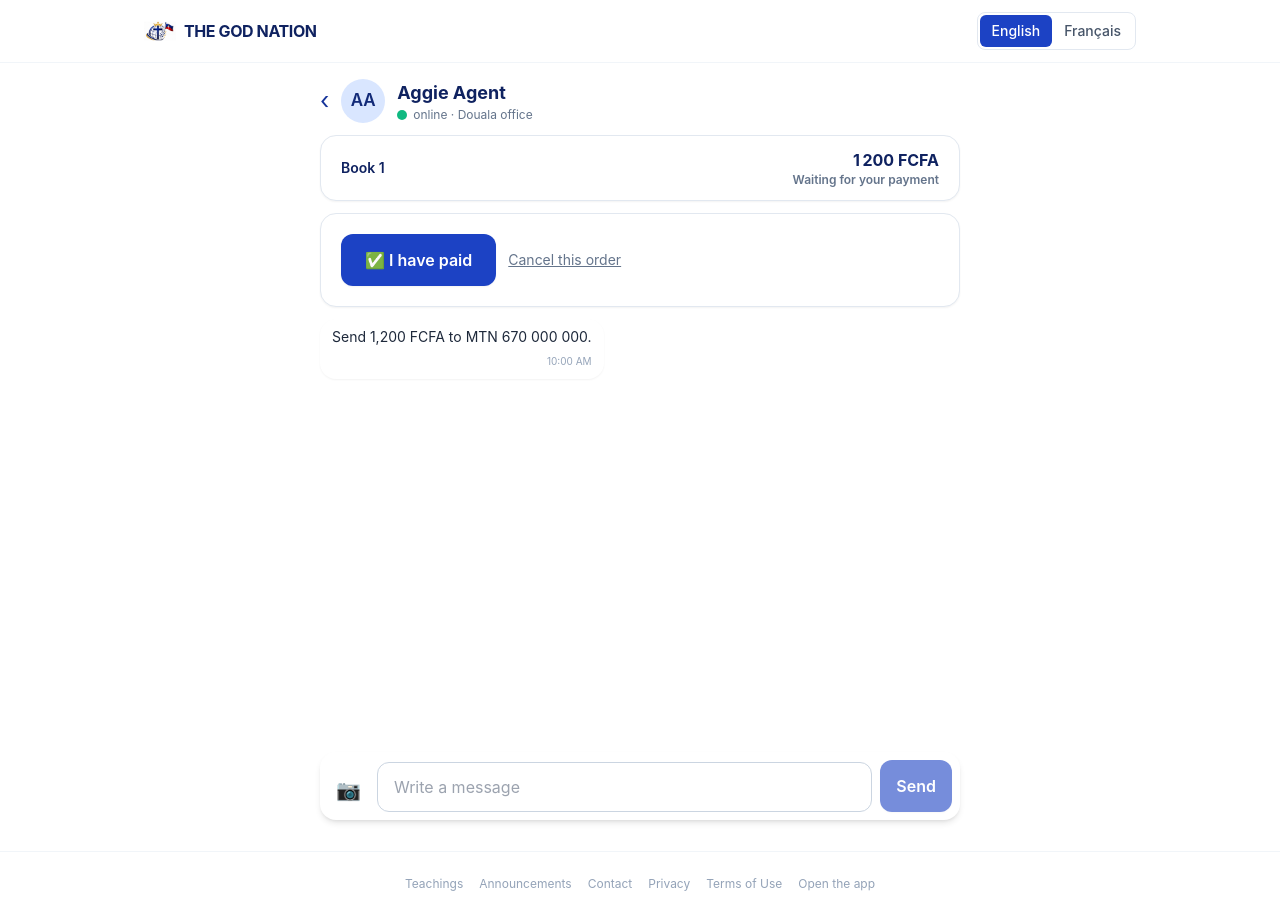
Test: The payment order chat › shows the agent's instructions, lets the member write, and sends "I have paid" with the transaction ID
This screenshot has width=1280, height=900.
Check: the text "Send 1,200 FCFA to MTN 670 000 000." is shown, box top-left (332, 327), bottom-right (592, 347)
Check: the heading "Aggie Agent" is shown, box top-left (397, 82), bottom-right (506, 103)
Type "I am sending it now" into the text box labelled "Write a message" at (625, 787), box top-left (377, 762), bottom-right (872, 812)
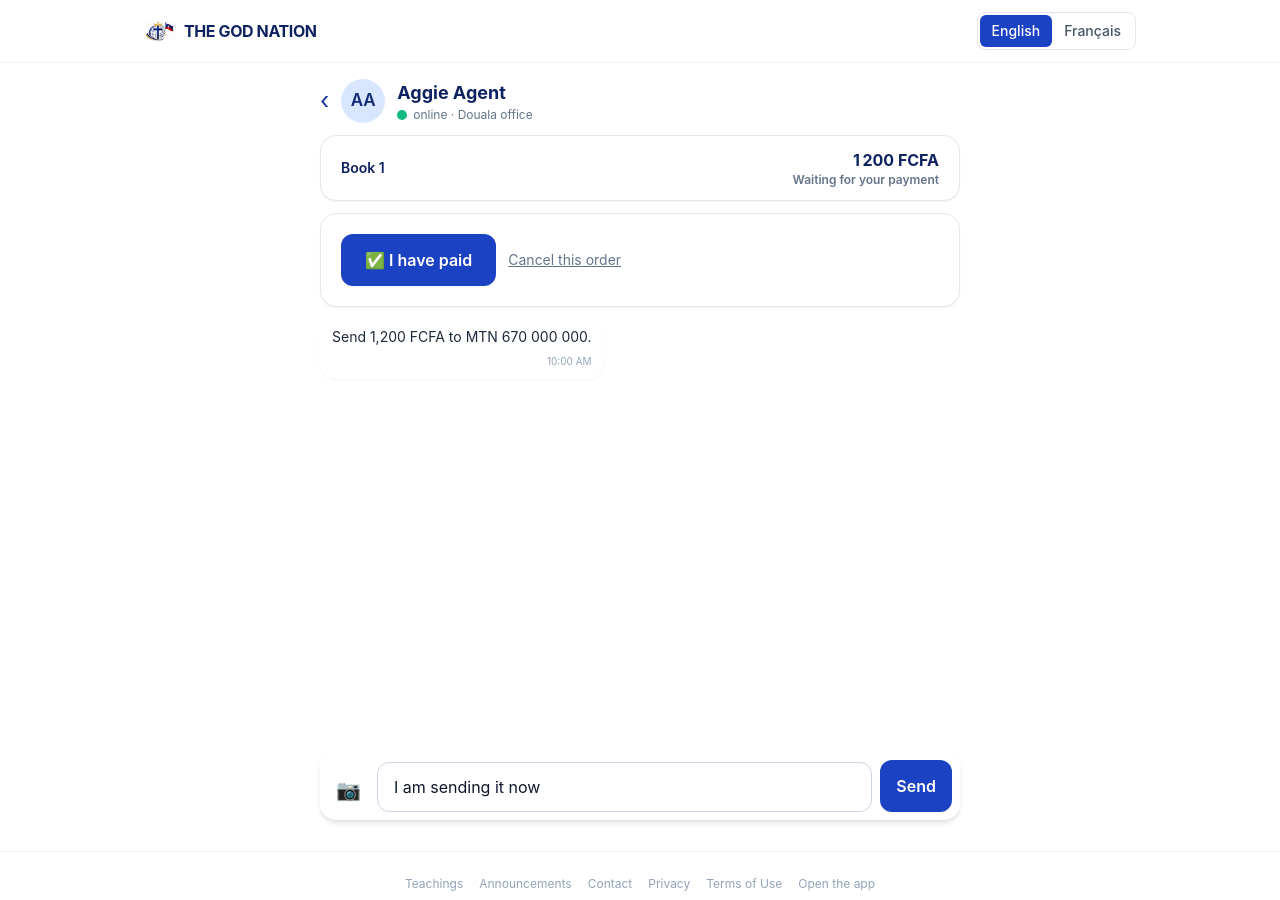
Click the button "Send" at (916, 786), box top-left (880, 760), bottom-right (952, 812)
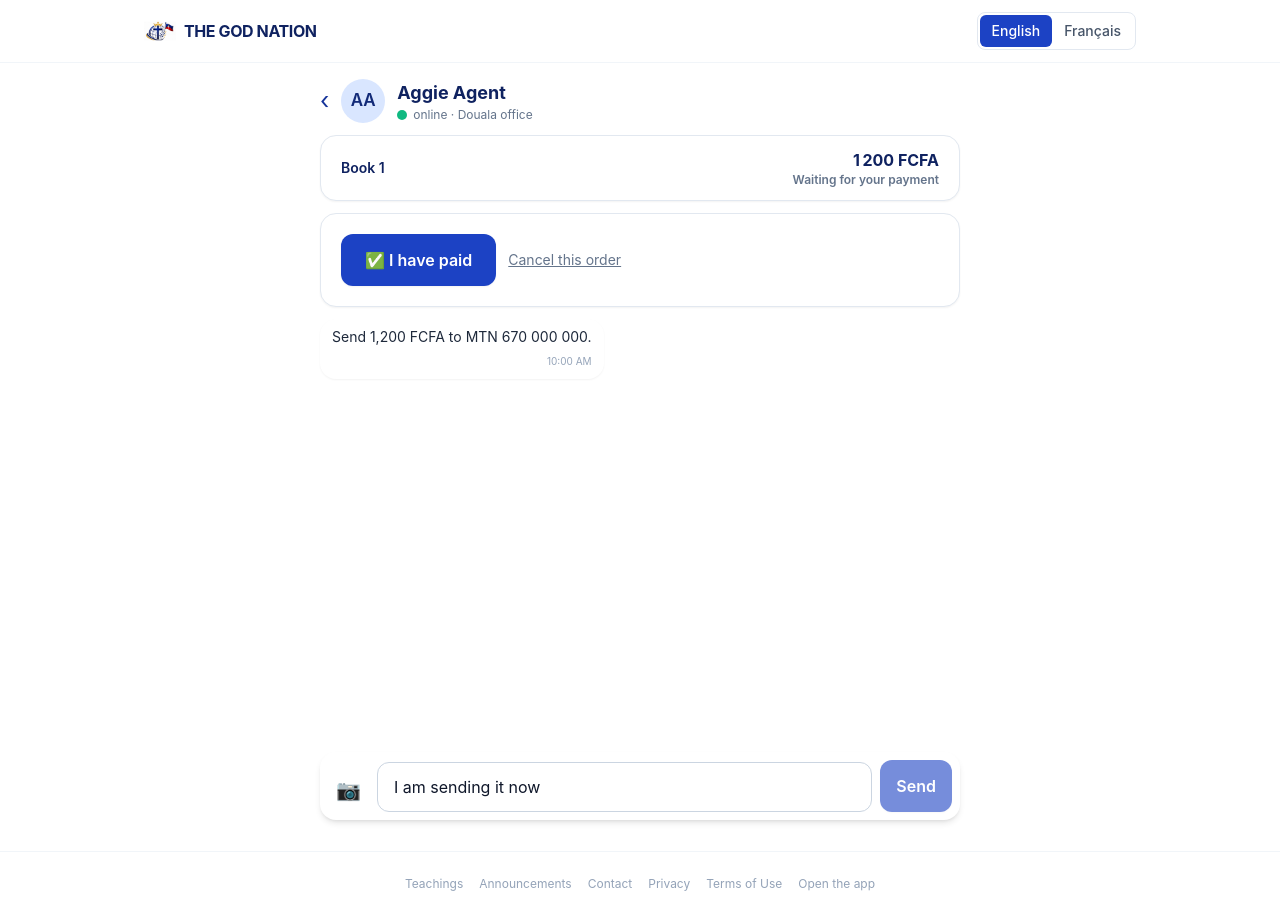
Click the button "✅ I have paid" at (419, 260), box top-left (341, 234), bottom-right (496, 286)
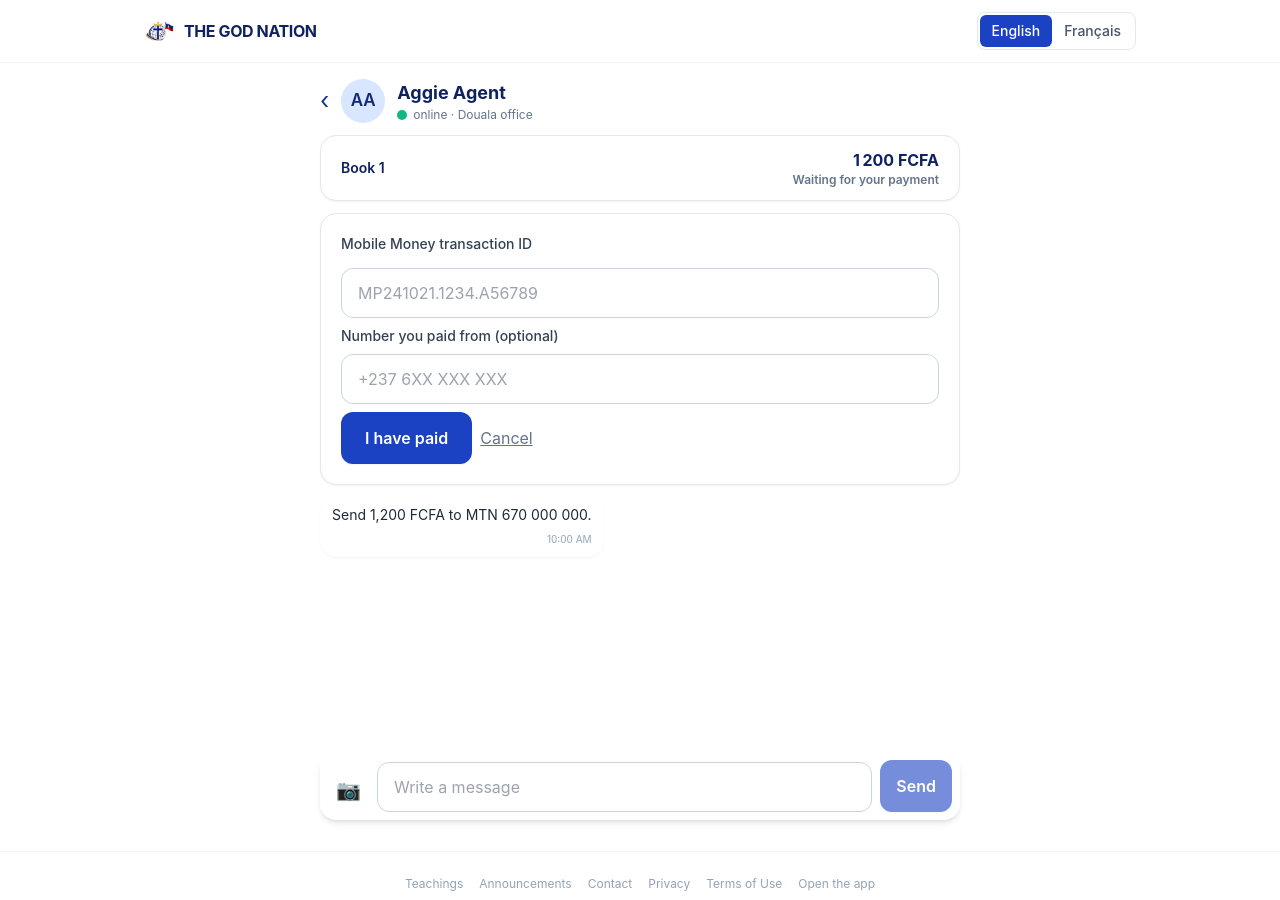
Click the button "I have paid" at (407, 438), box top-left (341, 412), bottom-right (472, 464)
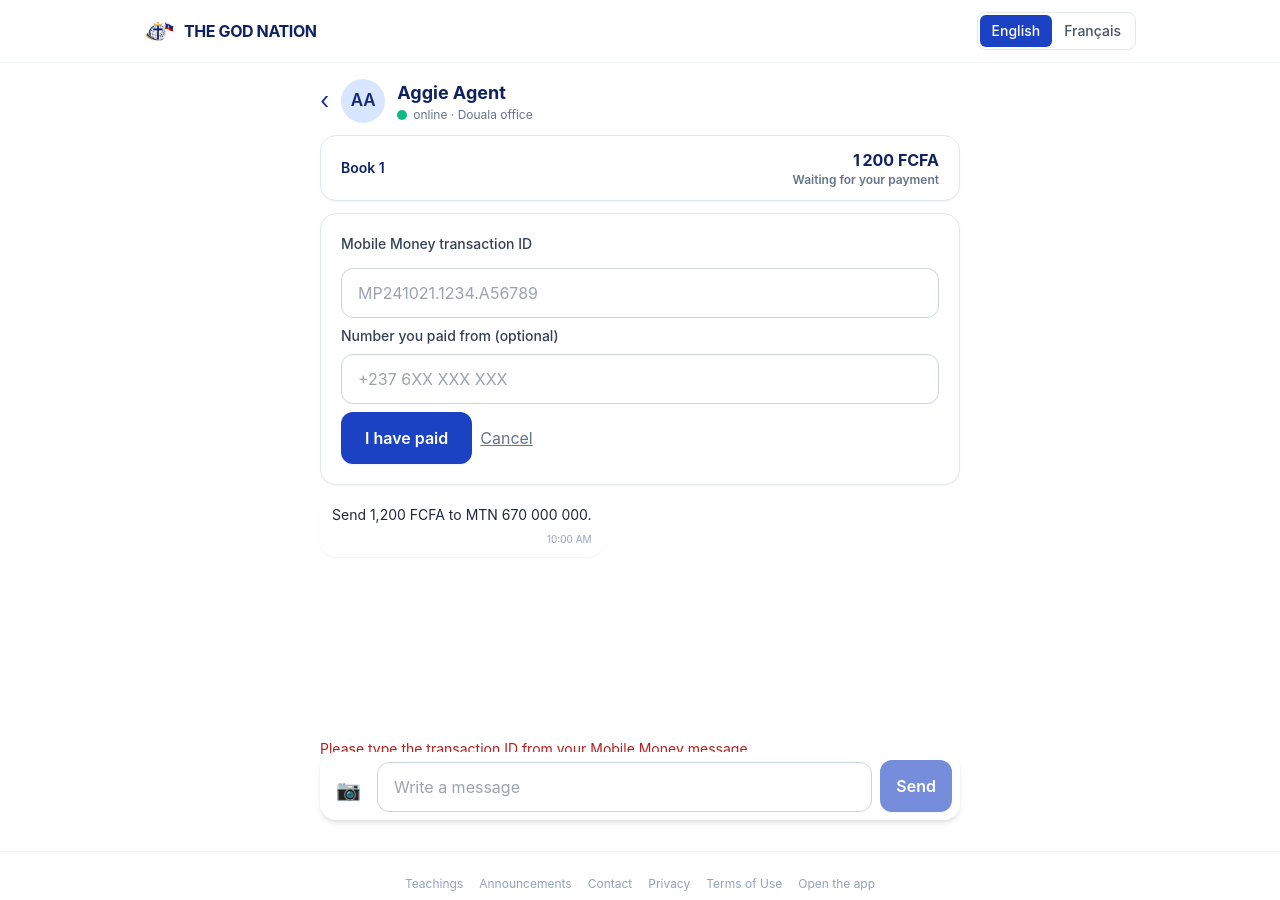
Check: the message shows "Please type the transaction ID", box top-left (320, 740), bottom-right (752, 757)
Type "MP241028.1111.A11111" into the field labelled "Mobile Money transaction ID" at (640, 293), box top-left (341, 268), bottom-right (939, 318)
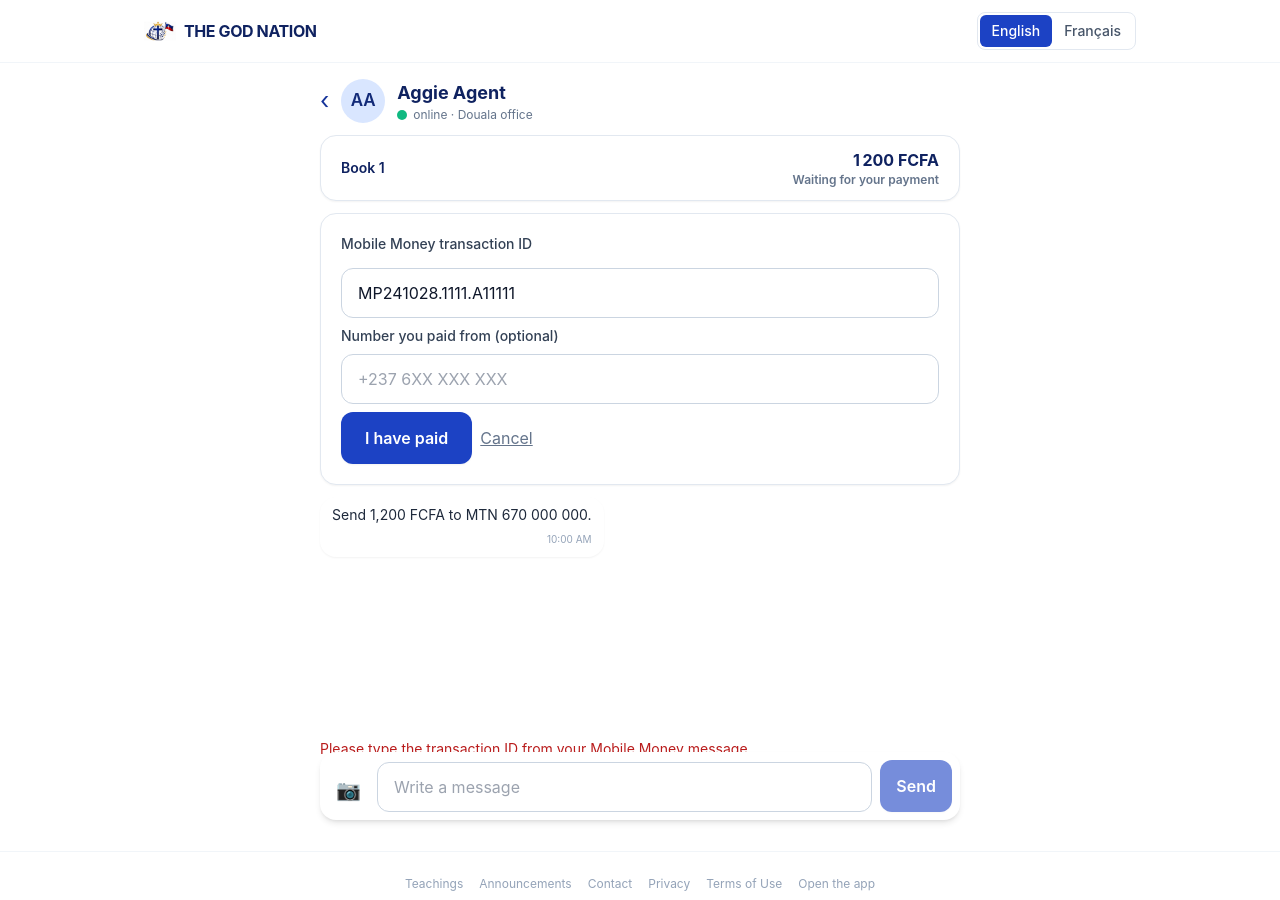
Click the button "I have paid" at (407, 438), box top-left (341, 412), bottom-right (472, 464)
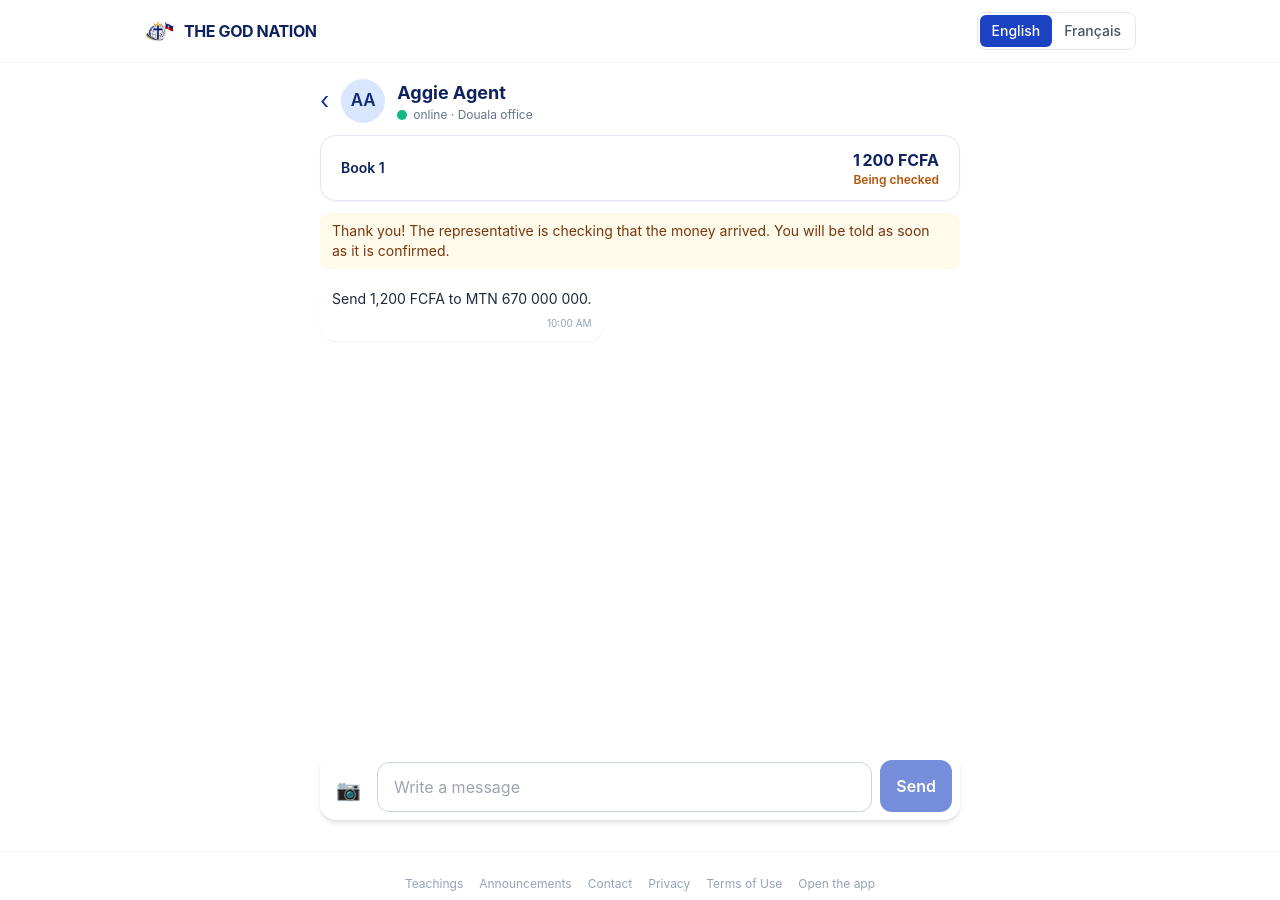
Check: the text "The representative is checking that the money arrived" is shown, box top-left (332, 222), bottom-right (930, 259)
Check: the text with test id "order-status" reads "Being checked", box top-left (853, 172), bottom-right (939, 187)
